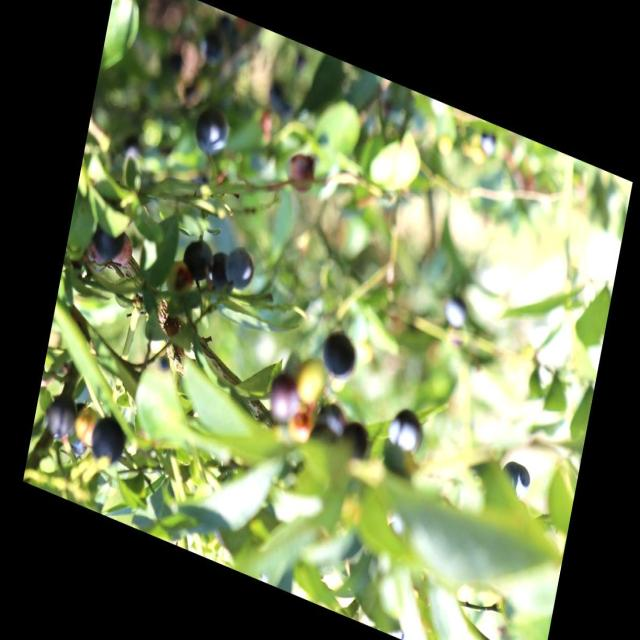blueberry: (87, 198, 132, 270), (316, 318, 362, 388), (190, 101, 234, 165), (386, 405, 428, 466), (262, 366, 303, 428), (86, 409, 128, 469), (218, 238, 260, 296), (200, 246, 236, 309), (309, 391, 348, 448), (42, 388, 80, 446), (177, 232, 215, 290), (494, 455, 532, 503), (342, 416, 373, 458), (443, 290, 467, 330)
blueberry-unripe: (288, 350, 329, 412), (68, 397, 109, 456), (284, 401, 316, 445)
